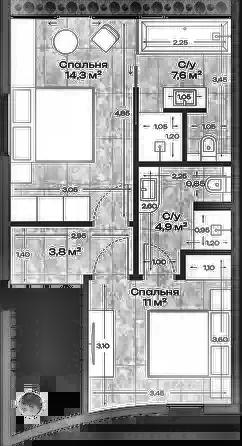door: (89, 182, 132, 229), (89, 235, 133, 280), (142, 241, 178, 281)
window: (0, 89, 12, 161), (163, 402, 208, 416)
